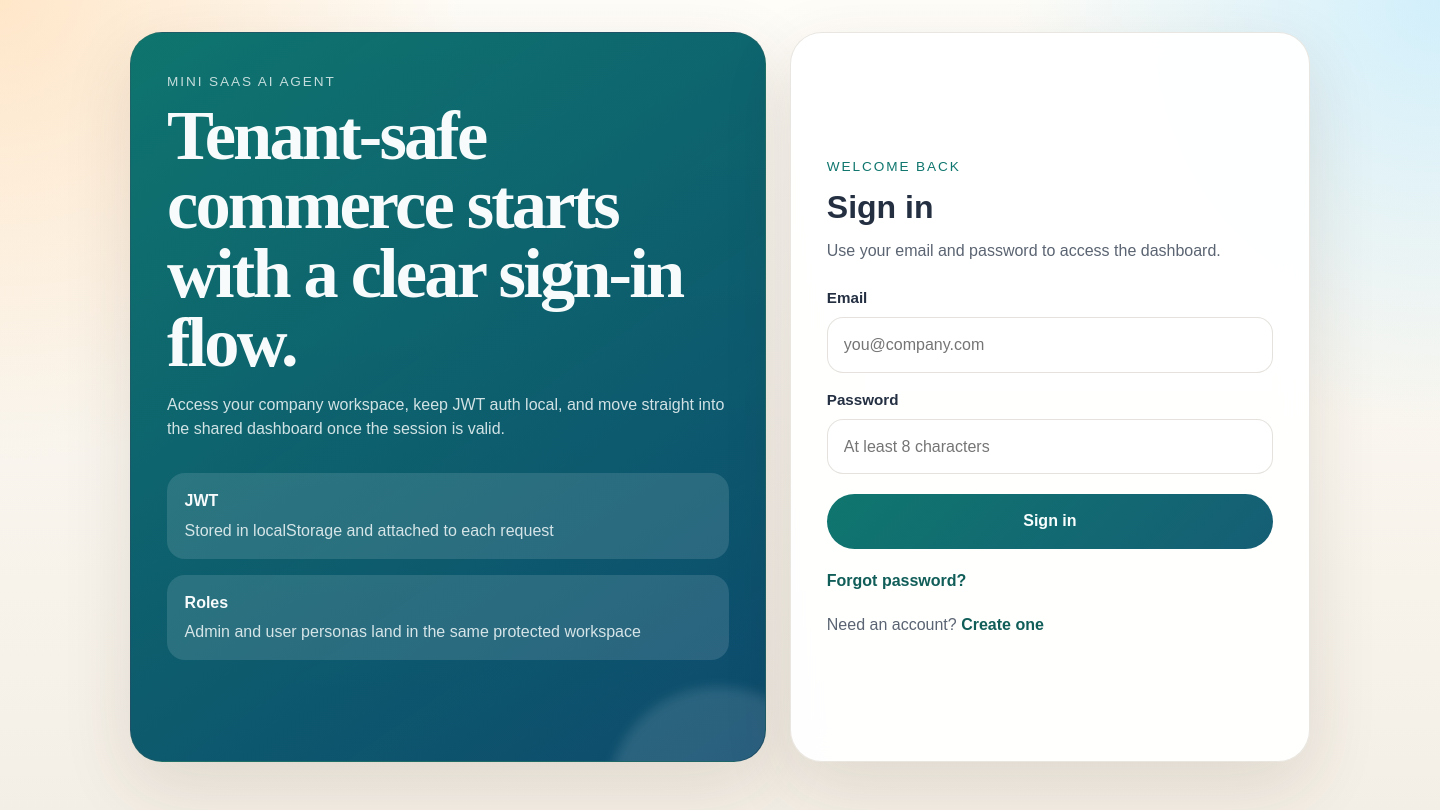
Test: authentication app flow › stores the token and redirects on valid login
In the field labelled "Email": (1050, 345) [827, 317, 1273, 373], type "ada@example.com"
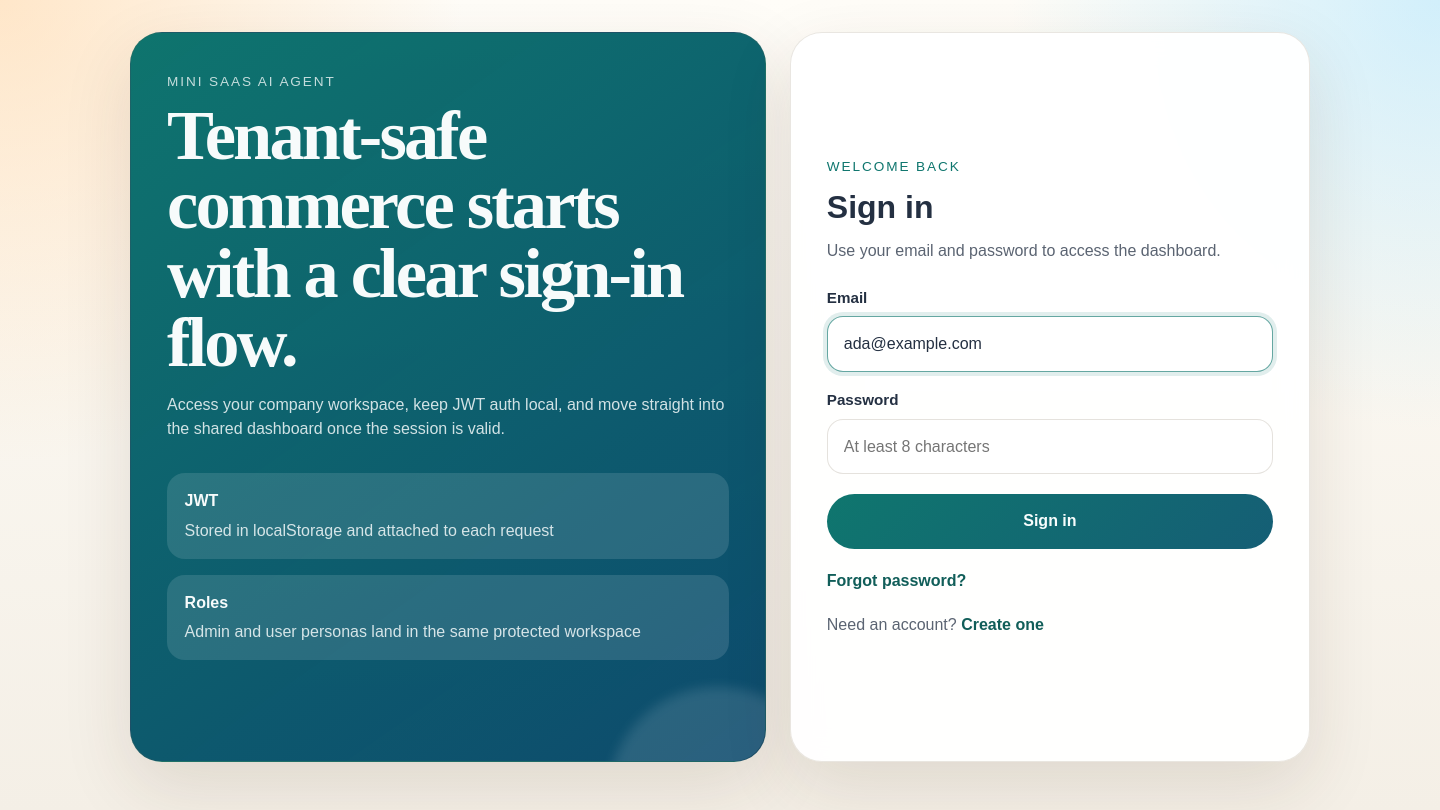
In the password field labelled "Password": (1050, 446) [827, 419, 1273, 474], type "password123"
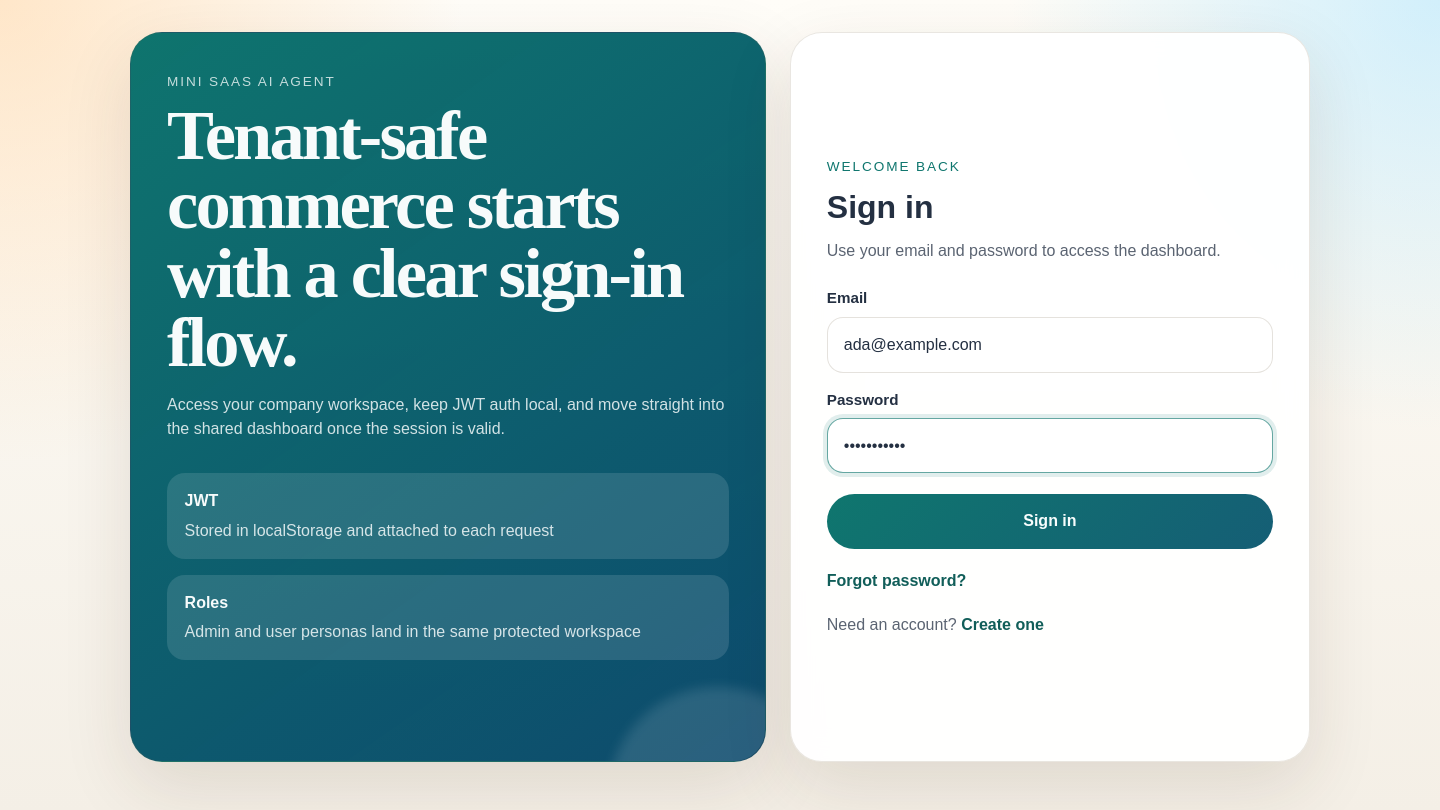
Click the button "Sign in": (1050, 521) [827, 494, 1273, 549]
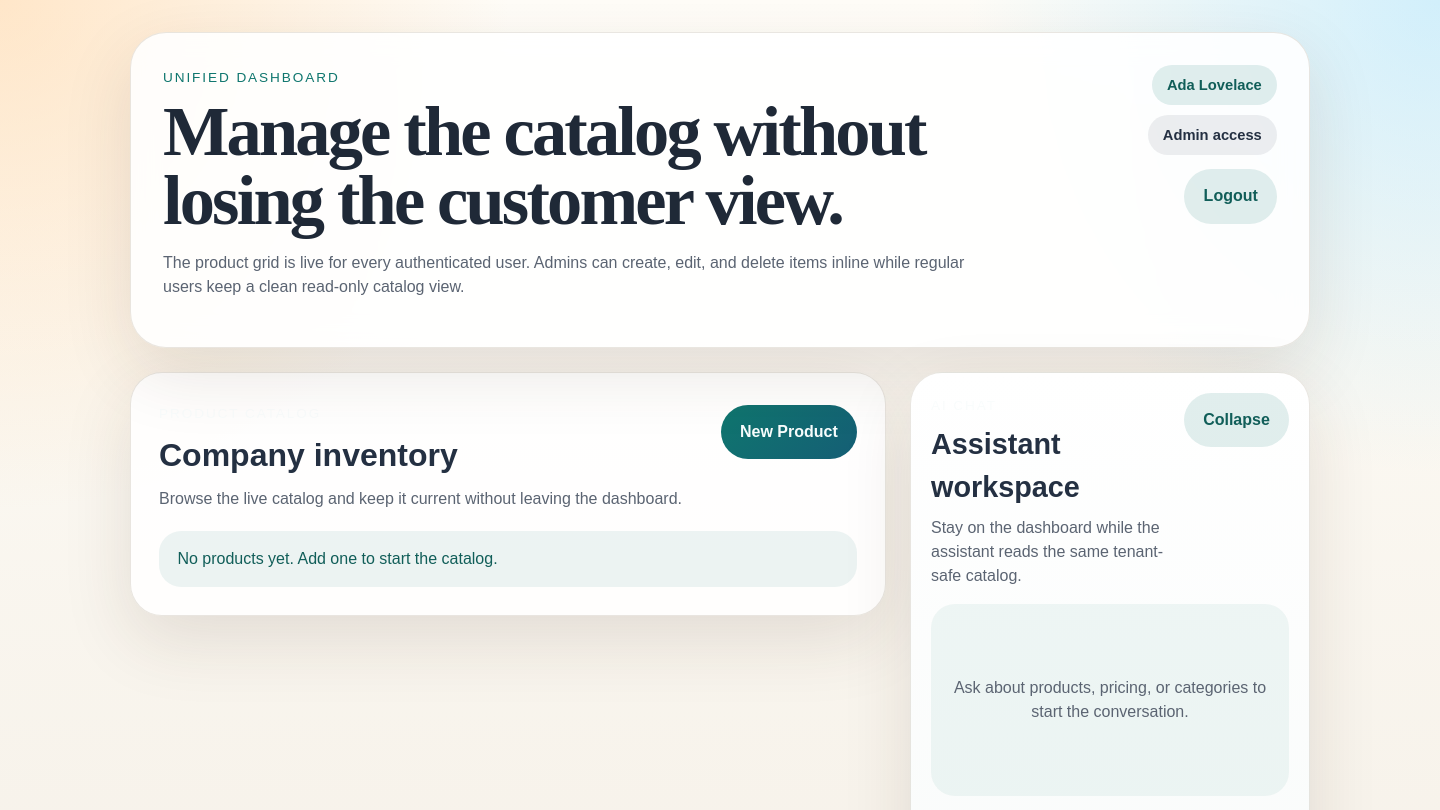
Check: the heading "Company inventory" is shown, box [159, 437, 458, 473]
